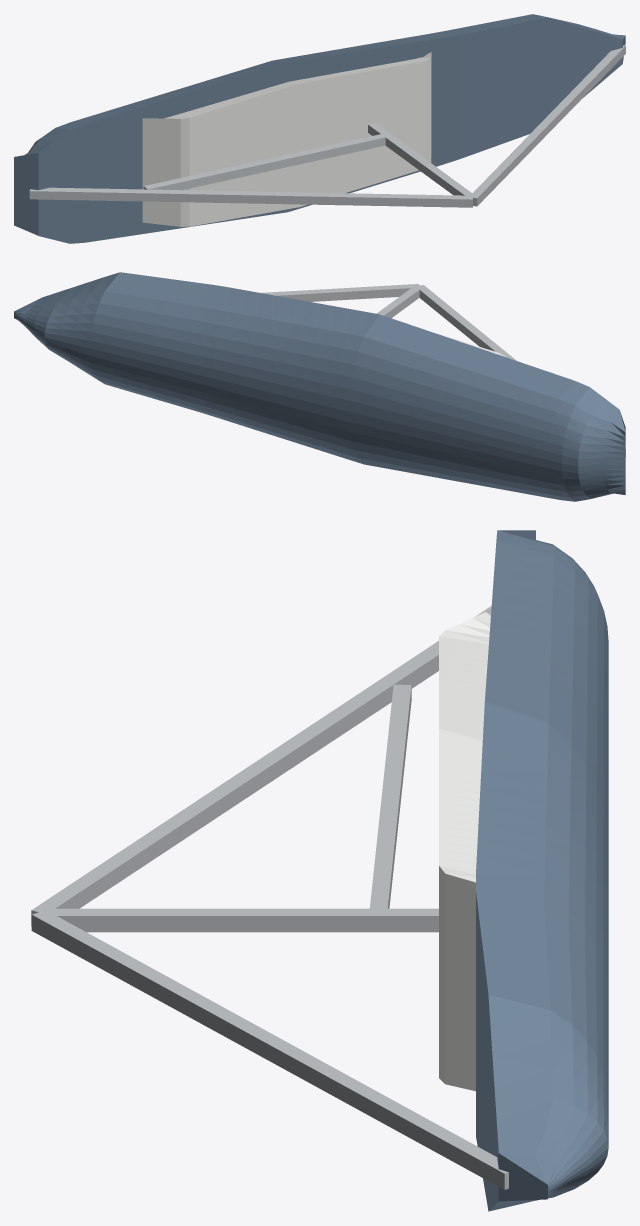
Rendered from loft-sail-small.glb.
3 views of the same model, one above another, from view 1: azimuth 30°, elevation 25°; view 2: azimuth 150°, elevation 25°; view 3: azimuth 270°, elevation 25° (orthographic). The views are drawn at different scales.
Parts seen in each view (by area): view 1: sail-small; view 2: sail-small; view 3: sail-small.
Boxes of the visible parts, <box> form: sail-small: <box>14,14,625,243</box>; sail-small: <box>14,272,625,501</box>; sail-small: <box>31,530,608,1211</box>.
Bounding box in the file's own units: 1.88 × 0.4398 × 0.7723.
